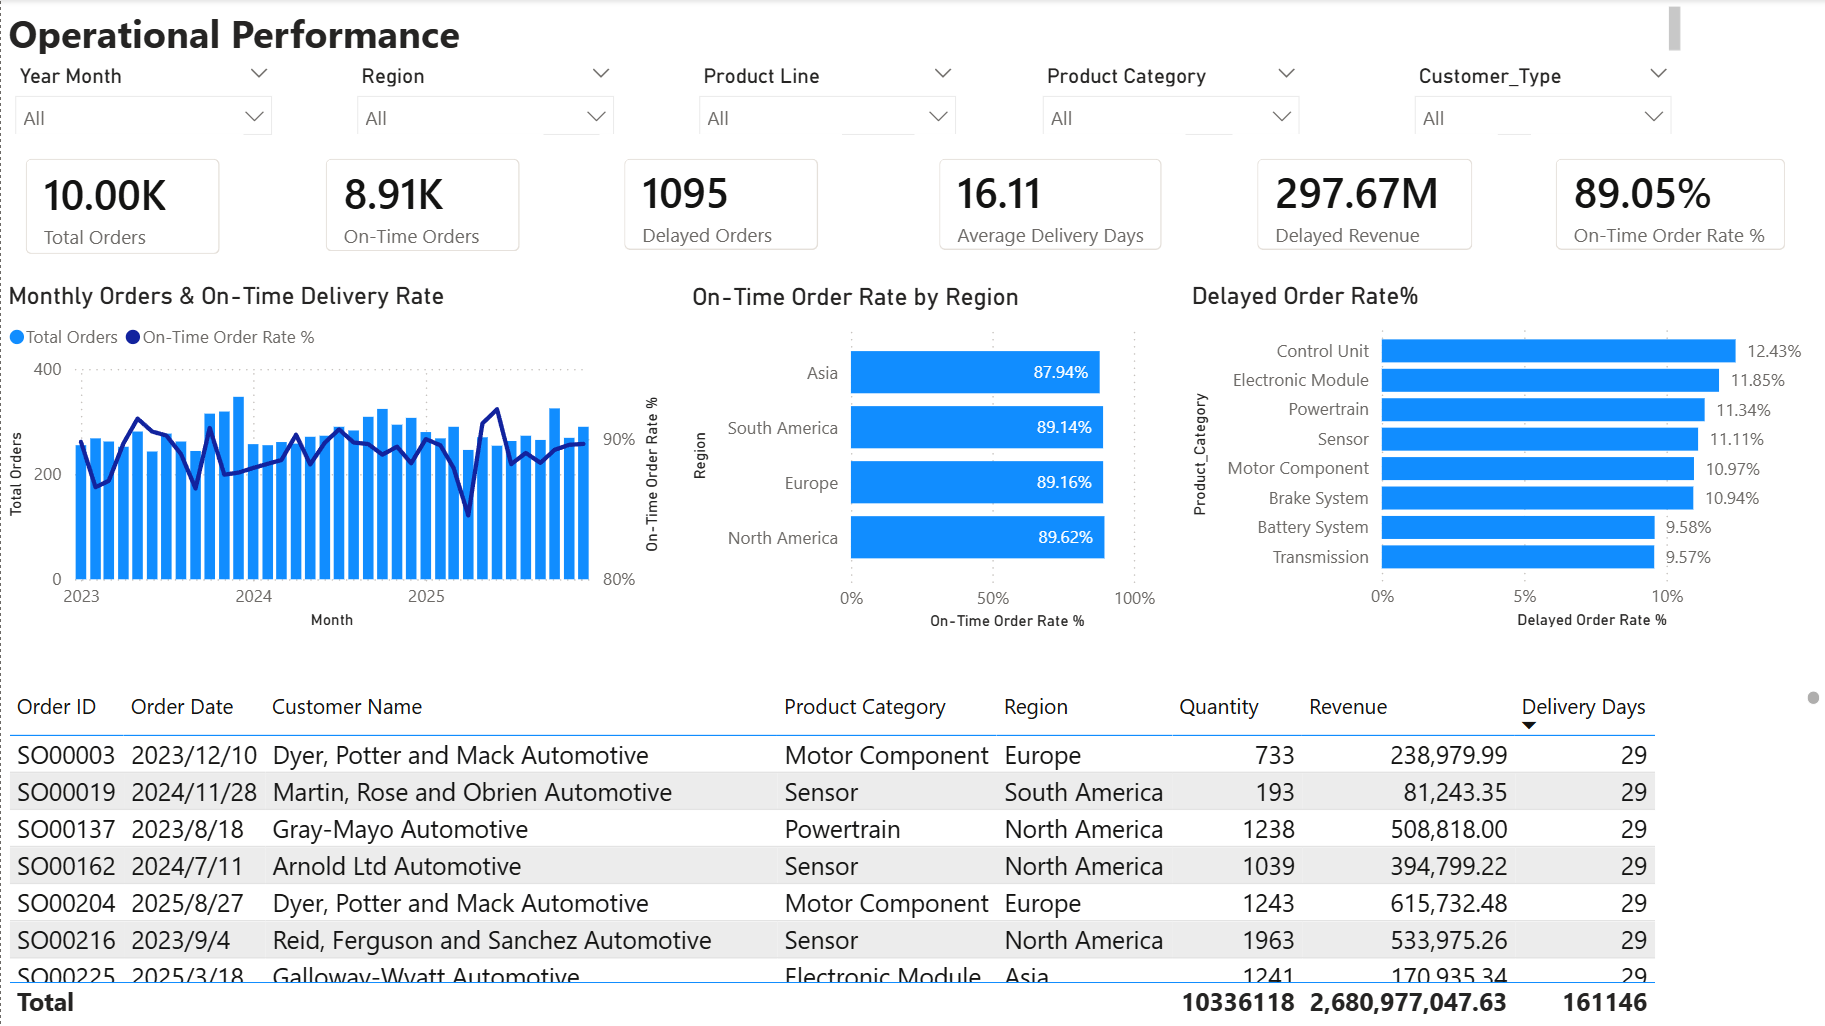

The dashboard page shown, as its layout file describes it:
{"tool":"powerbi","page":{"name":"Operational Performance","canvas":[1280,720],"ordinal":3},"visuals":[{"type":"slicer","fields":{"Values":["Calendar.Year Month"]},"box":[0,40,200,60],"z":0},{"type":"slicer","fields":{"Values":["regions.Region"]},"box":[240,40,200,60],"z":1000},{"type":"slicer","fields":{"Values":["products.Product_Line"]},"box":[480,40,200,60],"z":2000},{"type":"slicer","fields":{"Values":["products.Product_Category"]},"box":[720,40,200,60],"z":3000},{"type":"slicer","fields":{"Values":["customers.Customer_Type"]},"box":[981.2,40,200,60],"z":4000},{"type":"cardVisual","fields":{"Data":["sales_orders.Total Orders"]},"box":[0,95,170,101.4],"z":5000},{"type":"cardVisual","fields":{"Data":["sales_orders.On-Time Orders"]},"box":[210,95,170,99],"z":6000},{"type":"cardVisual","fields":{"Data":["sales_orders.Delayed Orders"]},"box":[420,95,170,98.2],"z":7000},{"type":"cardVisual","fields":{"Data":["Calendar.On-Time Order Rate %"]},"box":[1072.5,95.1,195.7,98.4],"z":8000},{"type":"cardVisual","fields":{"Data":["sales_orders.Average Delivery Days"]},"box":[640.2,95.1,190.2,98.4],"z":9000},{"type":"cardVisual","fields":{"Data":["sales_orders.Delayed Revenue"]},"box":[863.5,95.1,185.8,98.4],"z":10000},{"type":"lineClusteredColumnComboChart","title":"Monthly Orders & On-Time Delivery Rate","fields":{"Category":["Calendar.Month Start"],"Y":["sales_orders.Total Orders"],"Y2":["Calendar.On-Time Order Rate %"]},"box":[0,197.8,466.7,247.8],"z":11000},{"type":"clusteredBarChart","title":"On-Time Order Rate by Region","fields":{"Category":["regions.Region"],"Y":["Calendar.On-Time Order Rate %"]},"box":[480,198.9,355.6,247.8],"z":12000},{"type":"clusteredBarChart","title":"Delayed Order Rate%","fields":{"Category":["products.Product_Category"],"Y":["sales_orders.Delayed Order Rate %"]},"box":[830,197.8,450,247.8],"z":13000},{"type":"tableEx","fields":{"Values":["sales_orders.Order_ID","sales_orders.Order_Date","customers.Customer_Name","products.Product_Category","regions.Region","Sum(sales_orders.Quantity)","sales_orders.Total Revenue","Sum(sales_orders.Delivery_Days)"]},"box":[0,480,1280,240],"z":14000},{"type":"textbox","box":[0,0,1182.2,43.2],"z":15000}]}

Visuals, with their boxes in screenshot pixels (x1, y1, x2, y2), scaled from the page's 1280x720 canvas onto the 1825x1026 screenshot:
slicer - Calendar.Year Month: [left=0, top=57, right=285, bottom=142]
slicer - regions.Region: [left=342, top=57, right=627, bottom=142]
slicer - products.Product_Line: [left=684, top=57, right=970, bottom=142]
slicer - products.Product_Category: [left=1027, top=57, right=1312, bottom=142]
slicer - customers.Customer_Type: [left=1399, top=57, right=1684, bottom=142]
cardVisual - sales_orders.Total Orders: [left=0, top=135, right=242, bottom=280]
cardVisual - sales_orders.On-Time Orders: [left=299, top=135, right=542, bottom=276]
cardVisual - sales_orders.Delayed Orders: [left=599, top=135, right=841, bottom=275]
cardVisual - Calendar.On-Time Order Rate %: [left=1529, top=136, right=1808, bottom=276]
cardVisual - sales_orders.Average Delivery Days: [left=913, top=136, right=1184, bottom=276]
cardVisual - sales_orders.Delayed Revenue: [left=1231, top=136, right=1496, bottom=276]
"Monthly Orders & On-Time Delivery Rate" lineClusteredColumnComboChart: [left=0, top=282, right=665, bottom=635]
"On-Time Order Rate by Region" clusteredBarChart: [left=684, top=283, right=1191, bottom=637]
"Delayed Order Rate%" clusteredBarChart: [left=1183, top=282, right=1824, bottom=635]
tableEx - sales_orders.Order_ID x sales_orders.Order_Date: [left=0, top=684, right=1824, bottom=1025]
textbox: [left=0, top=0, right=1686, bottom=62]
